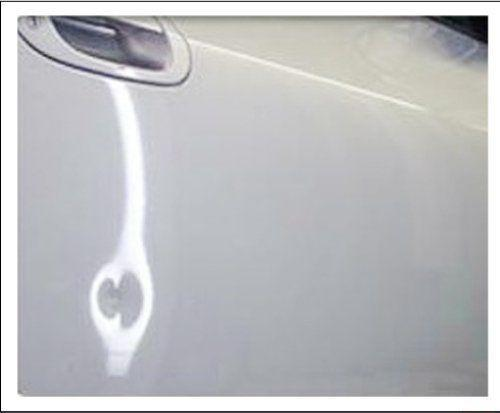dent: (82, 252, 168, 355)
